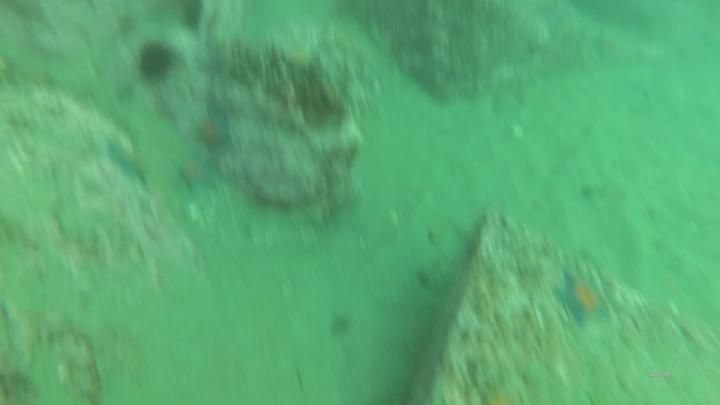echinus: (133, 40, 184, 85)
starfish: (560, 270, 611, 325), (108, 139, 149, 184), (177, 158, 220, 195), (198, 115, 234, 153)
